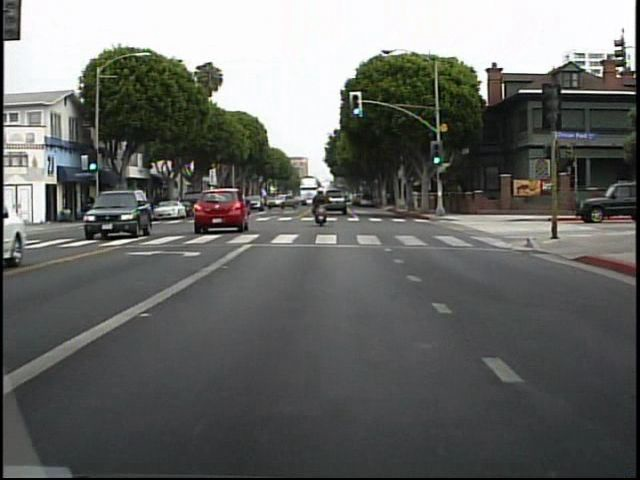person: (311, 183, 337, 229)
